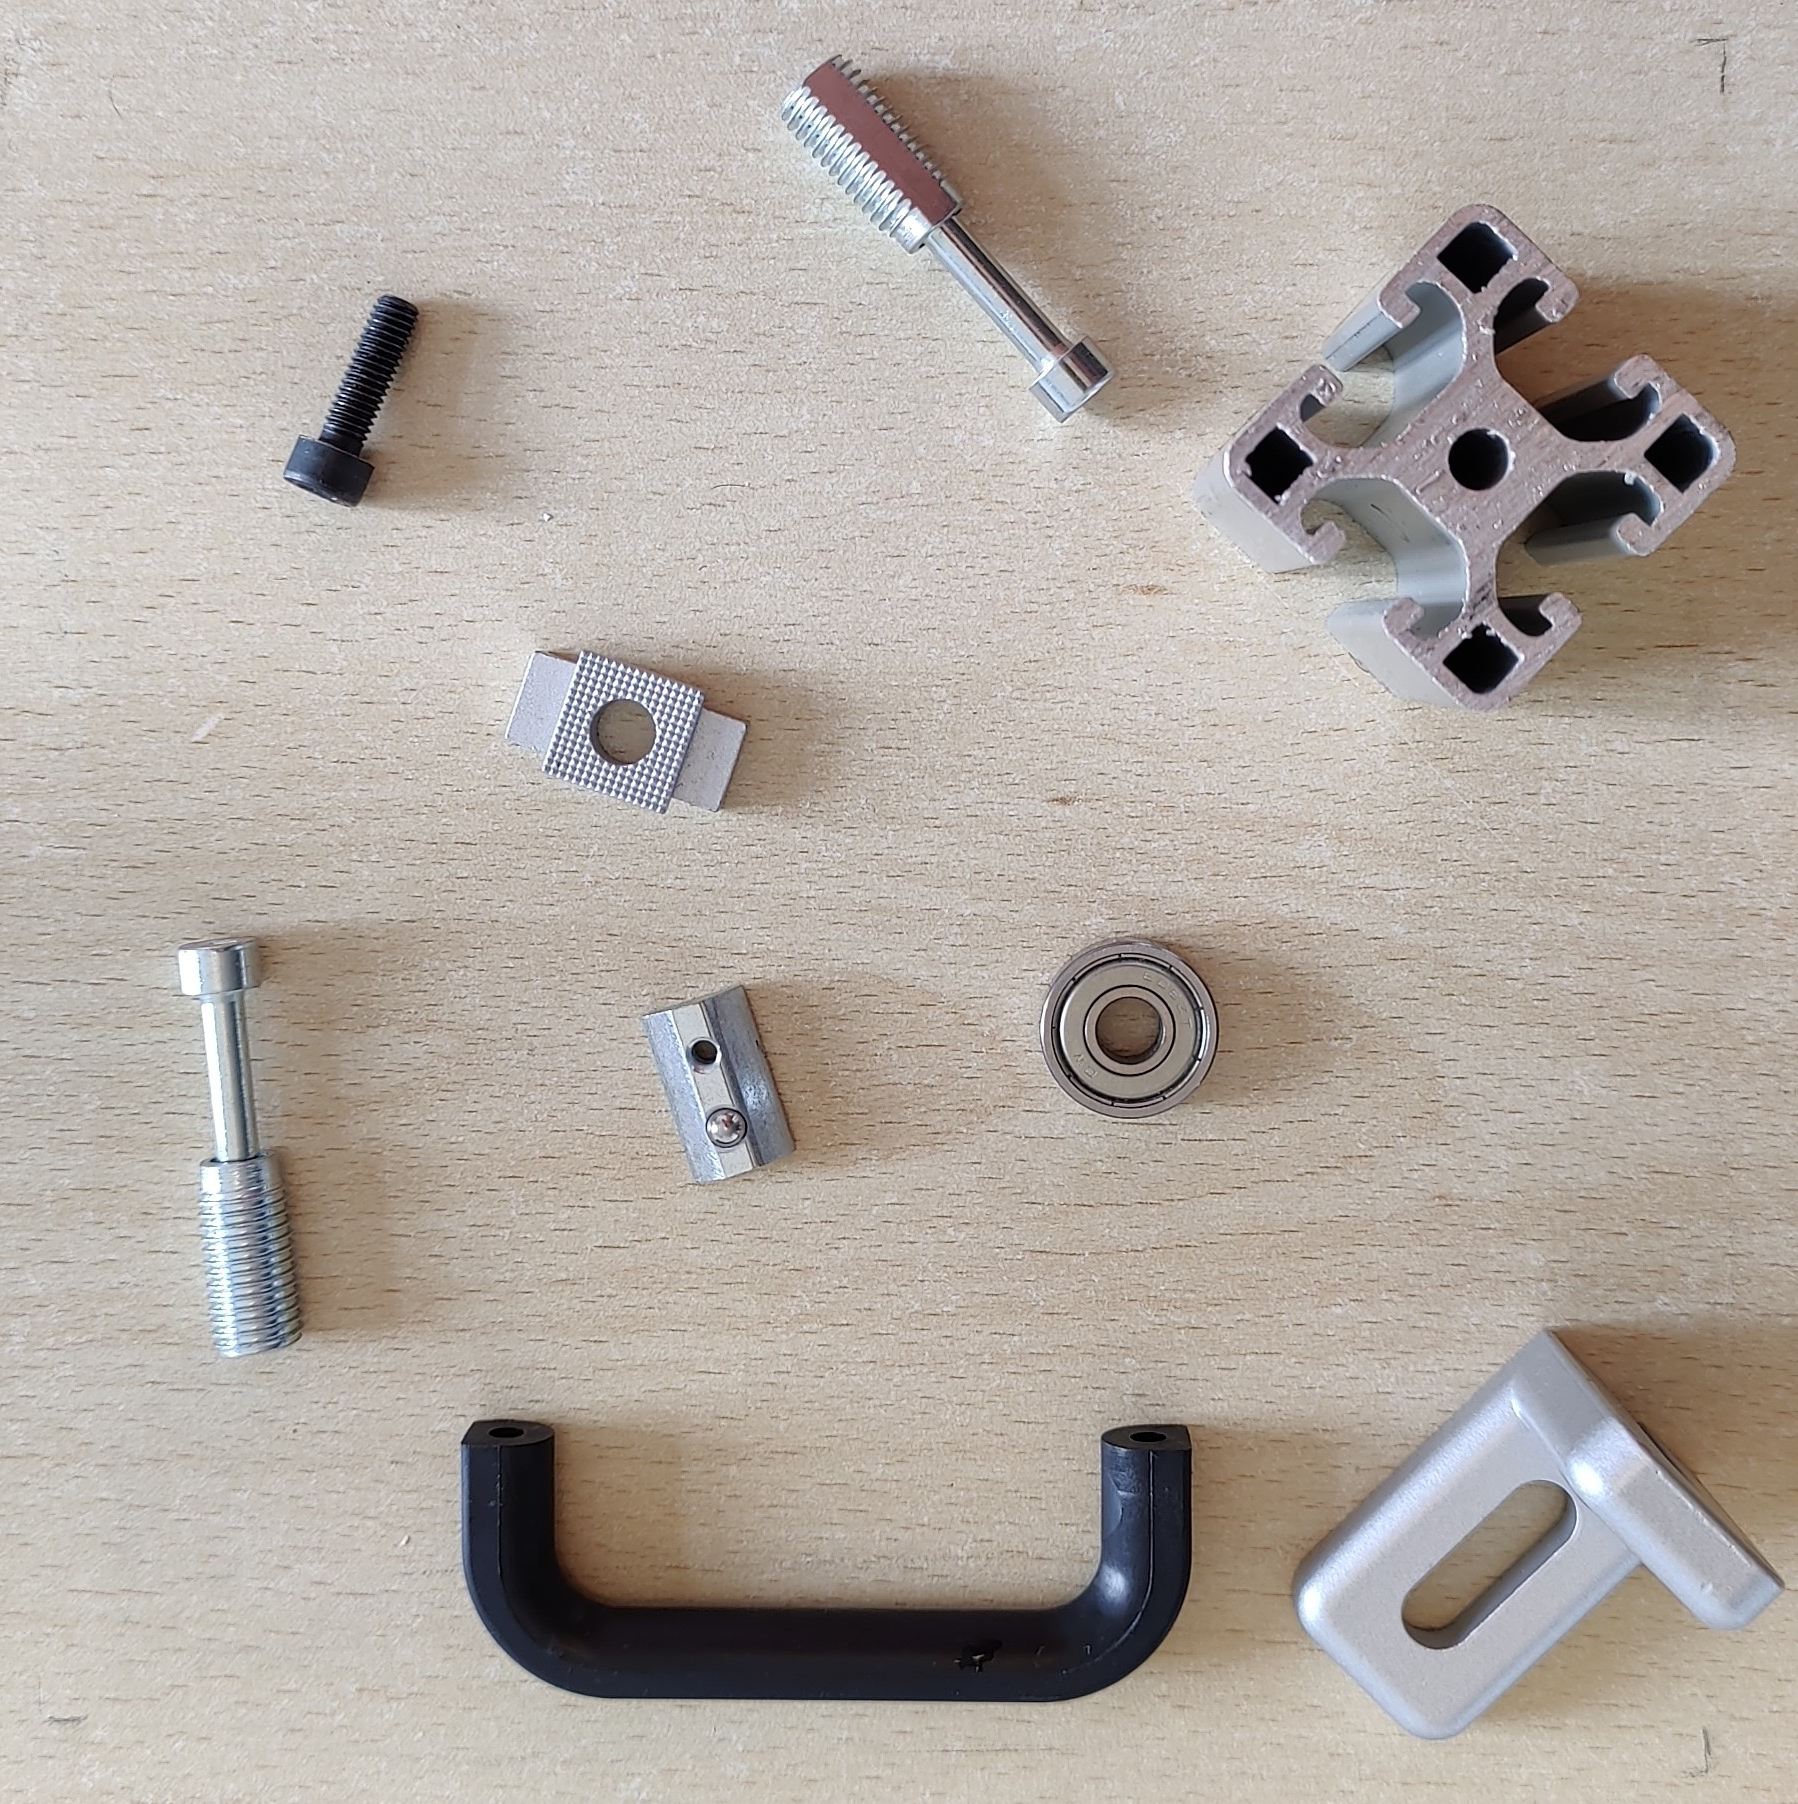Aluminium Extension: (1182, 201, 1740, 714)
Ball Bearing: (1036, 933, 1222, 1121)
Multiwinkel: (1289, 1325, 1788, 1741)
Pull Handle: (456, 1414, 1199, 1705)
Shoulder Socket Head Cap Screw: (779, 49, 1120, 426), (171, 933, 310, 1360)
Socket Head Cap Screw: (282, 291, 422, 510)
T Nut Square: (502, 647, 751, 818)
T Spring Nut: (637, 979, 800, 1185)
